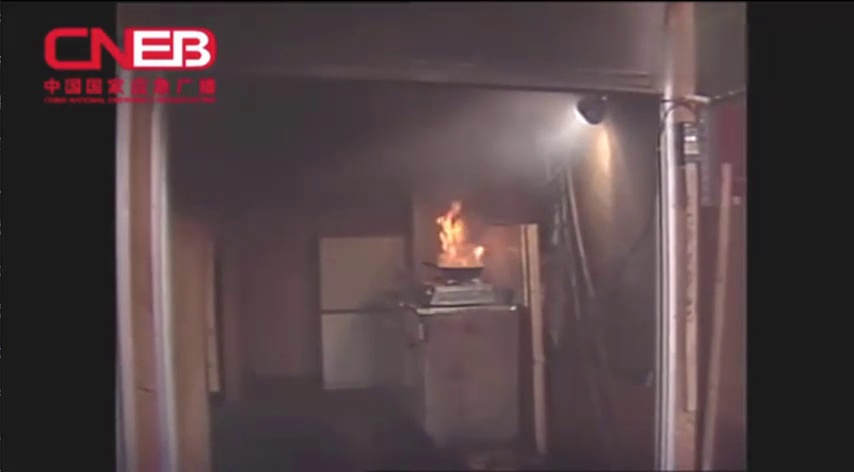fire: (424, 196, 490, 279)
